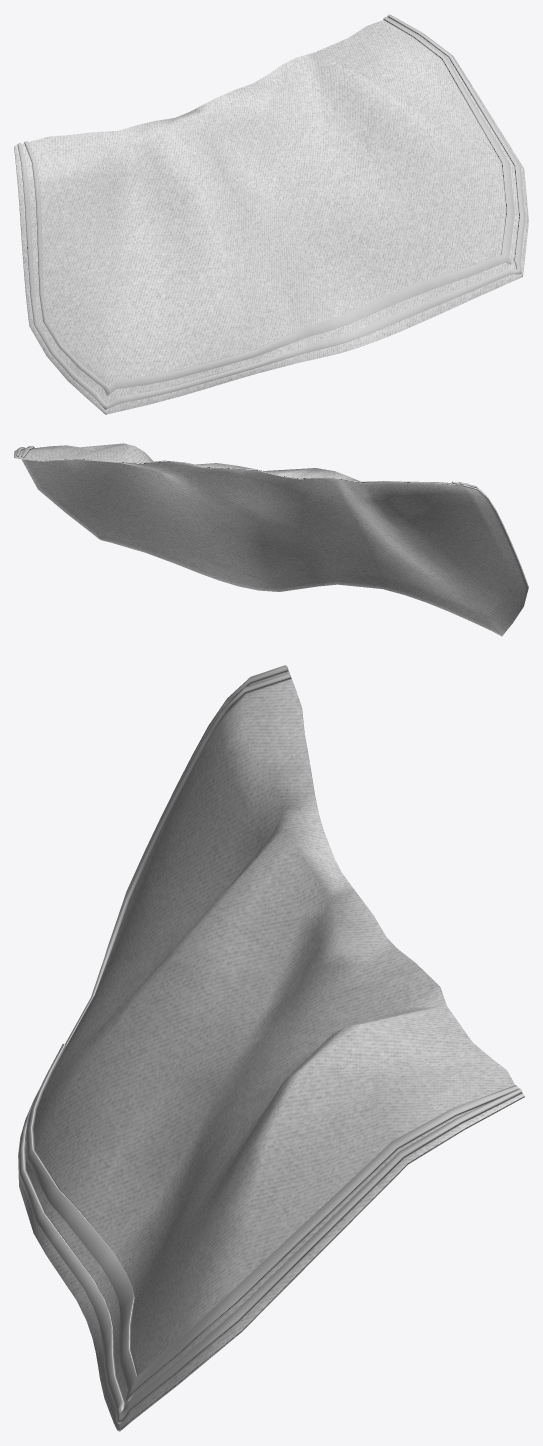
The model's file is Jac_Pocket_RIGHT_V1.glb.
The picture shows the model from 3 angles, top to bottom: view 1: azimuth 30°, elevation 25°; view 2: azimuth 150°, elevation 25°; view 3: azimuth 270°, elevation 25°; orthographic projection. The views are drawn at different scales.
Parts seen in each view (by area): view 1: Jac_Pocket_RIGHT_V11, Rope1; view 2: Jac_Pocket_RIGHT_V11; view 3: Jac_Pocket_RIGHT_V11, Rope1.
Part boxes in pixels (box(x1,y1,x2,y2)): Jac_Pocket_RIGHT_V11: box(14, 19, 528, 414); Rope1: box(17, 14, 525, 409); Jac_Pocket_RIGHT_V11: box(14, 443, 528, 636); Jac_Pocket_RIGHT_V11: box(18, 665, 524, 1431); Rope1: box(18, 665, 522, 1424).
Bounding box in the file's own units: 0.224 × 0.0949 × 0.106.
Materials: 2 (2 with a texture image).
